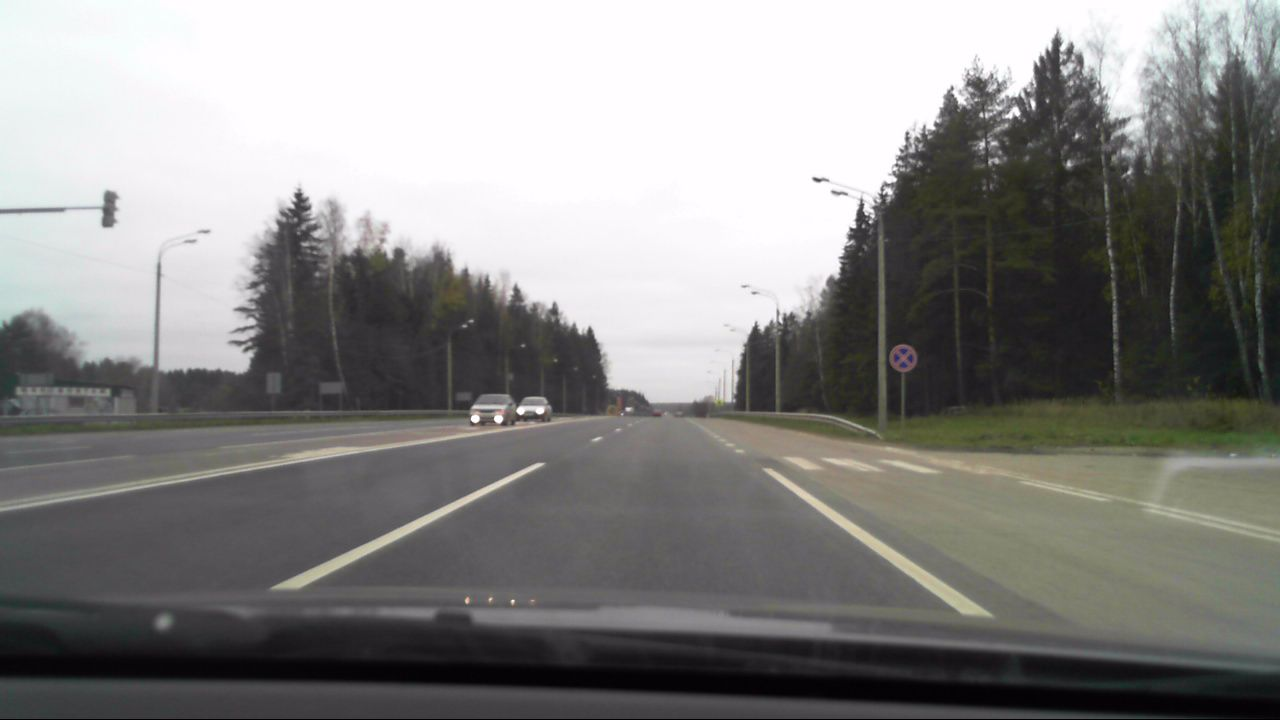No Parking: (886, 343, 917, 373)
